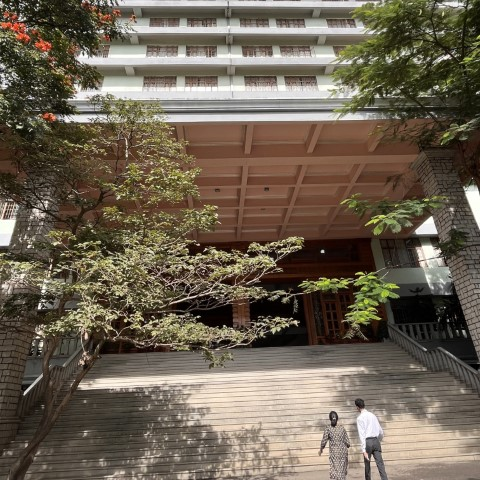Central Block: (135, 1, 478, 480)
